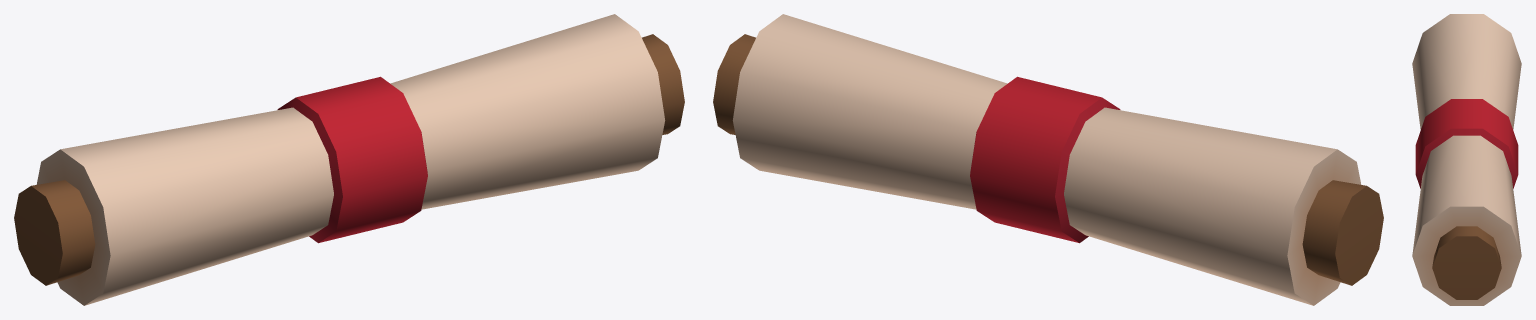
File: PaperScroll3.fbx
3 views of the same model, side by side, from view 1: azimuth 30°, elevation 25°; view 2: azimuth 150°, elevation 25°; view 3: azimuth 270°, elevation 25° (orthographic). The views are drawn at different scales.
Parts seen in each view (by area): view 1: PaperScroll3; view 2: PaperScroll3; view 3: PaperScroll3.
Part boxes in pixels (x1,y1,x2,y2): PaperScroll3: [14, 14, 684, 305]; PaperScroll3: [713, 14, 1383, 305]; PaperScroll3: [1412, 14, 1521, 305].
Size of the model in its own units: 28.04 by 6 by 6.
